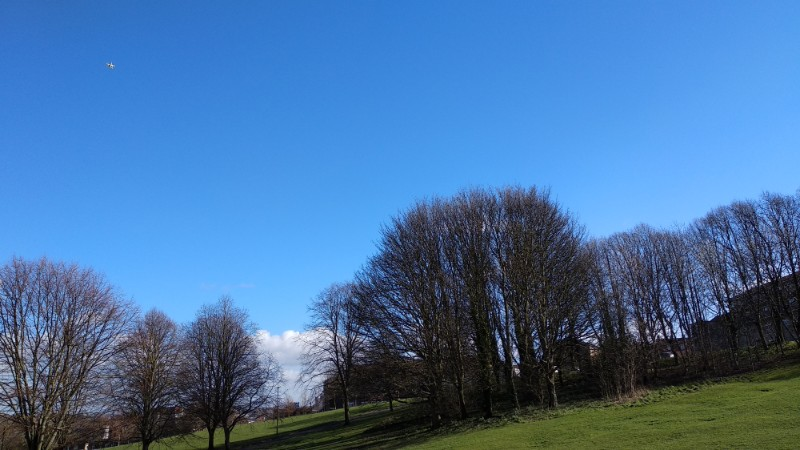drone: (104, 60, 117, 71)
